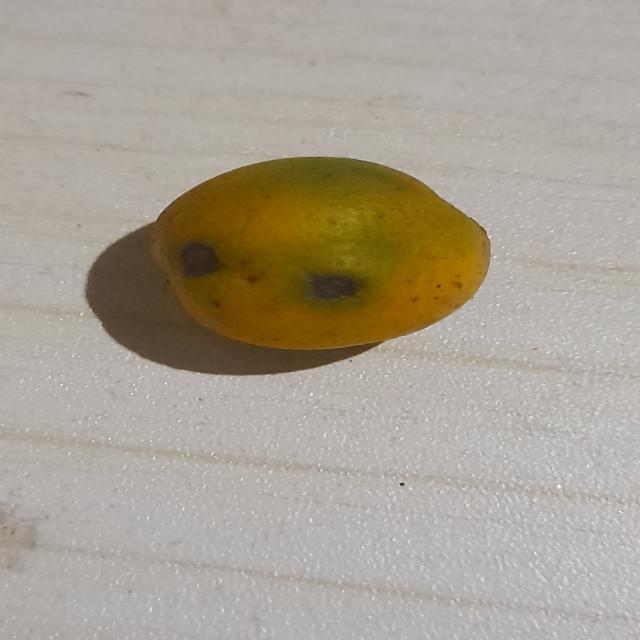black spot: (144, 152, 494, 355)
